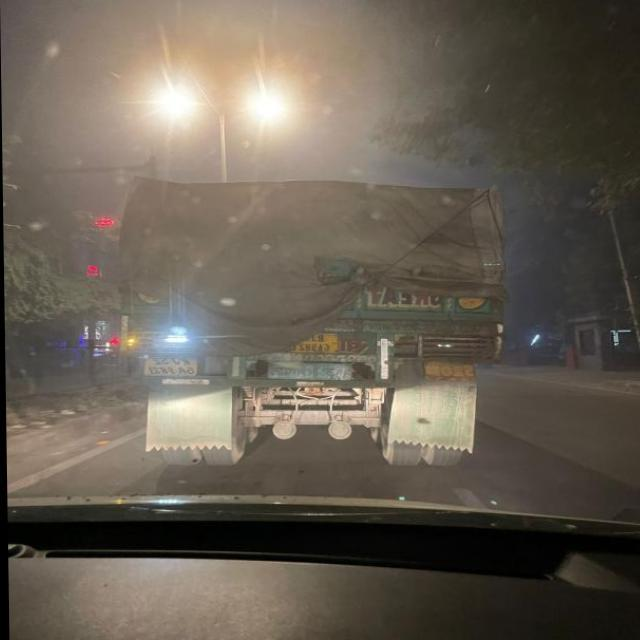covered: (124, 174, 517, 466)
